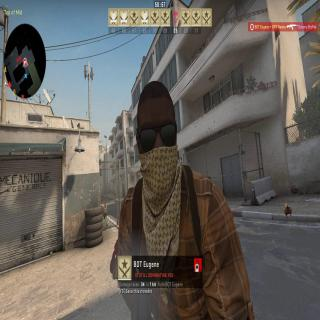T-Body: (114, 80, 255, 318)
T-Head: (135, 79, 179, 191), (284, 202, 288, 207)
